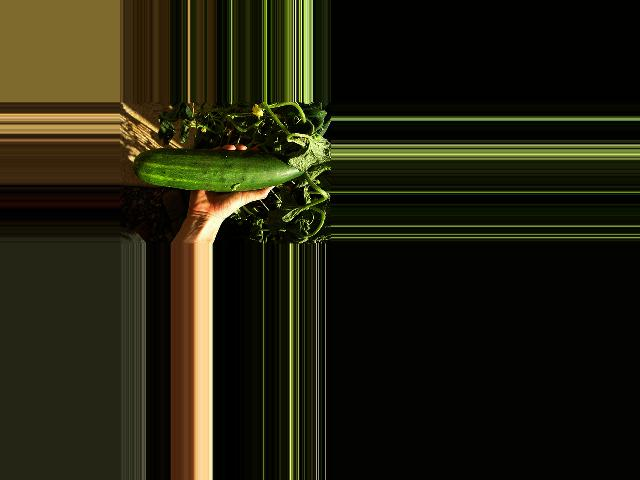cucumber: (132, 148, 306, 191)
